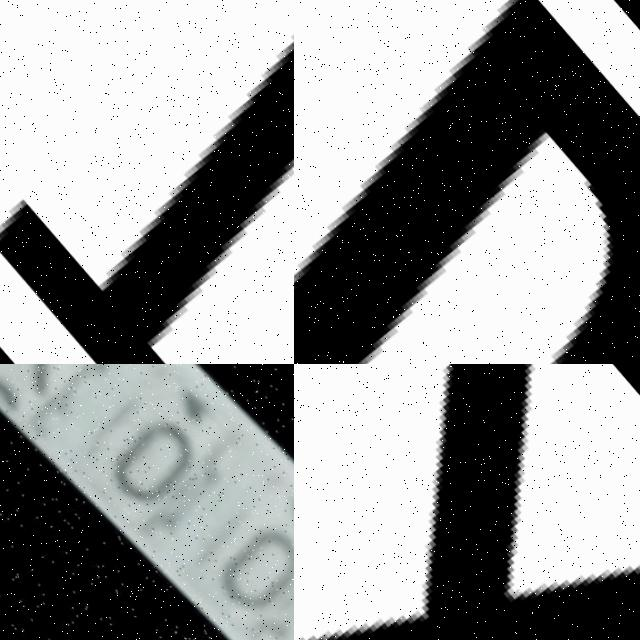0: (71, 387, 212, 519), (173, 489, 294, 632)
4: (0, 364, 105, 406)
D: (294, 0, 640, 364)
I: (0, 25, 294, 364)
X: (294, 364, 640, 640)
